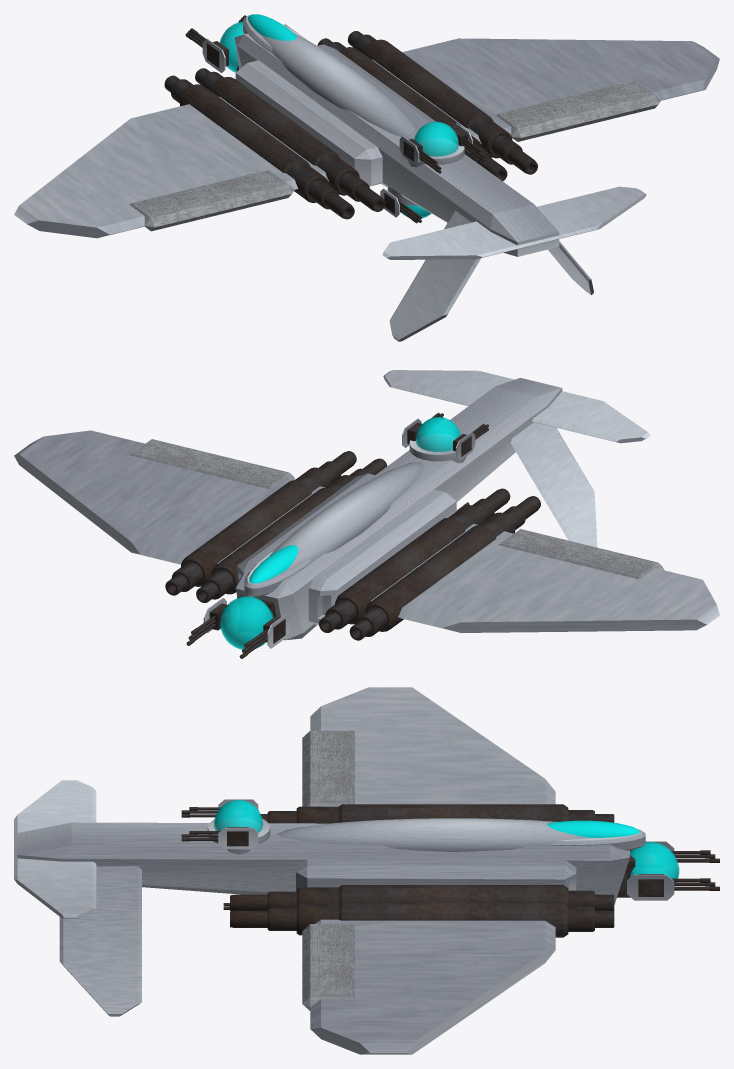
The model's file is Bomber mk2.fbx.
3 renders of one model, top to bottom at view 1: azimuth 30°, elevation 25°; view 2: azimuth 150°, elevation 25°; view 3: azimuth 270°, elevation 25°, orthographic. The views are drawn at different scales.
Parts seen in each view (by area): view 1: group16; view 2: group16; view 3: group16.
Boxes of the visible parts, <box> form: group16: <box>14,14,719,341</box>; group16: <box>14,370,719,658</box>; group16: <box>14,687,719,1054</box>.
Size of the model in its own units: 67.71 by 14.15 by 55.5.
11 materials, 8 textured.
